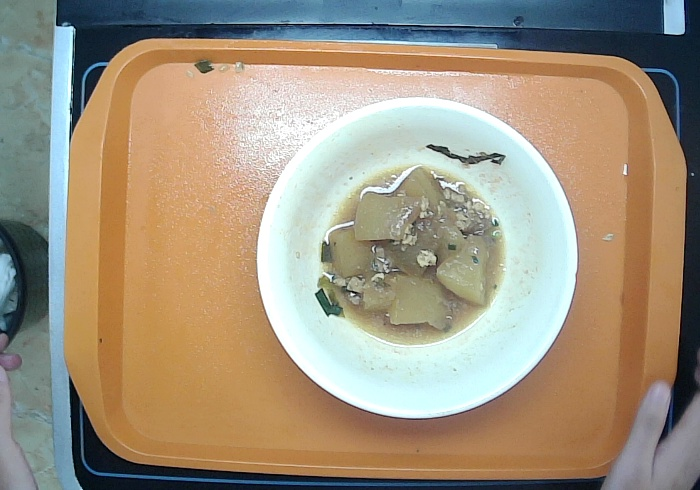ZNLD-Da_Tang_Wan: (258, 95, 579, 423)
